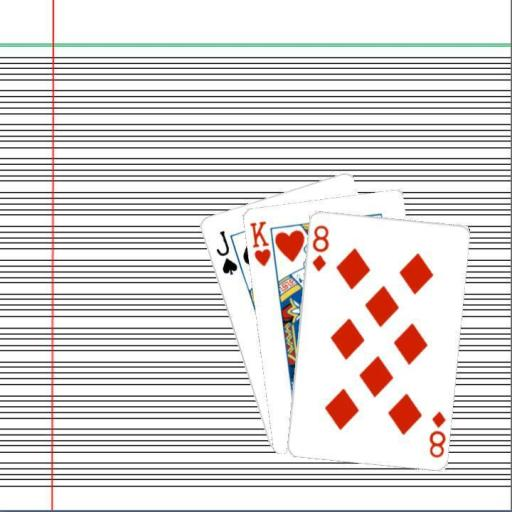card-corner: (212, 226, 239, 276), (246, 218, 272, 268), (425, 408, 447, 458), (309, 221, 330, 273)
